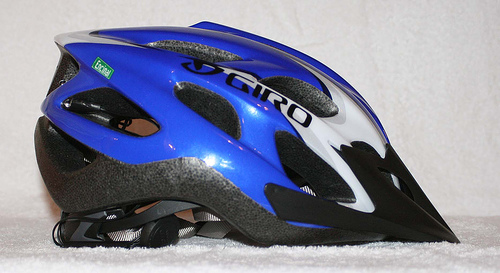helmet: (46, 10, 426, 249)
